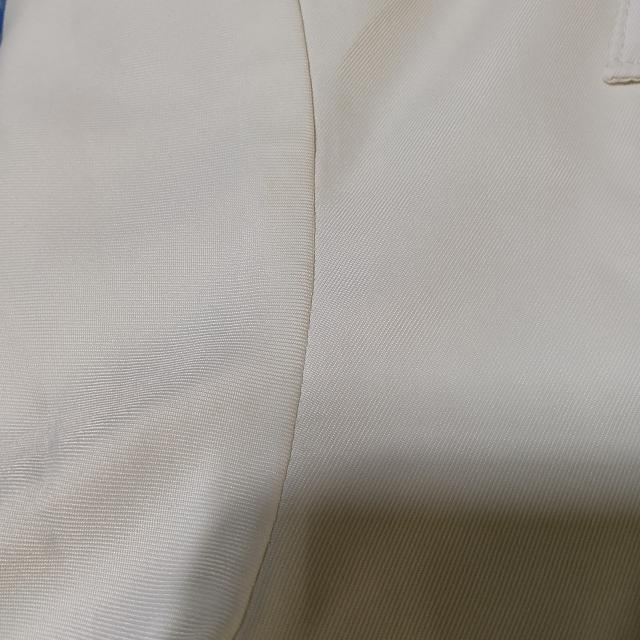education_male_uniform: (0, 0, 313, 629)
